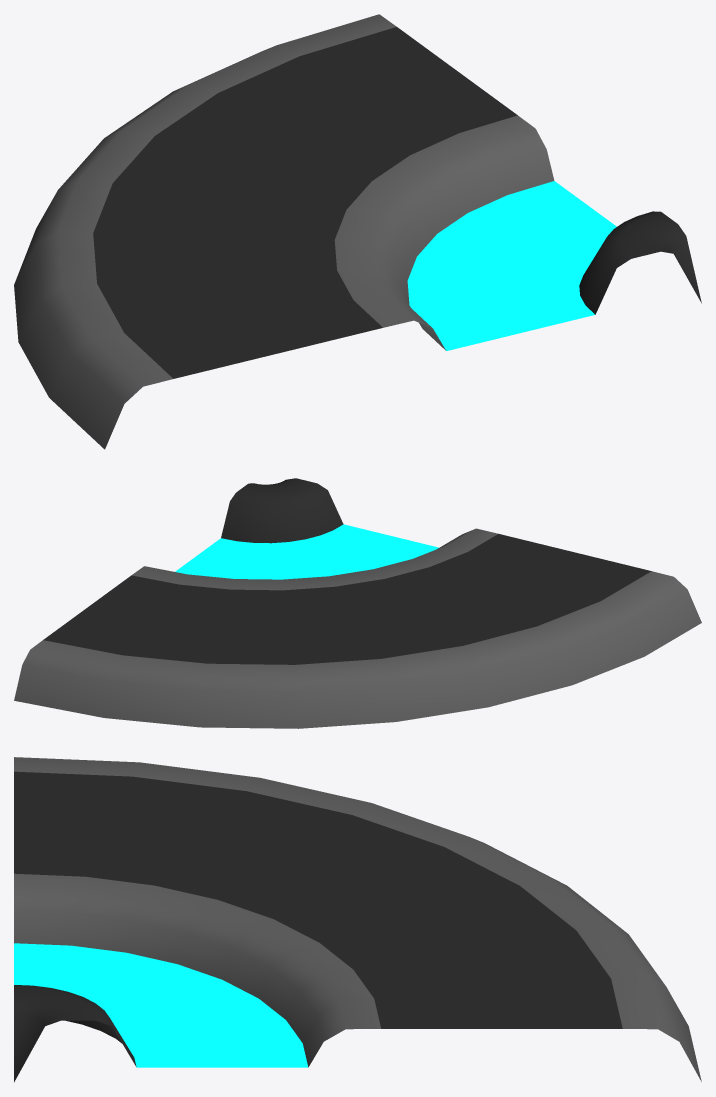
File: courbe.fbx
The picture shows the model from 3 angles, top to bottom: view 1: azimuth 30°, elevation 25°; view 2: azimuth 150°, elevation 25°; view 3: azimuth 270°, elevation 25°; orthographic projection. The views are drawn at different scales.
Visible parts, largest first — view 1: Curve2; view 2: Curve2; view 3: Curve2.
Part boxes in pixels (<box>): Curve2: <box>14,14,701,449</box>; Curve2: <box>14,478,701,728</box>; Curve2: <box>14,757,701,1082</box>.
Size of what is drawn, in the model's own units: 40 by 4 by 40.
